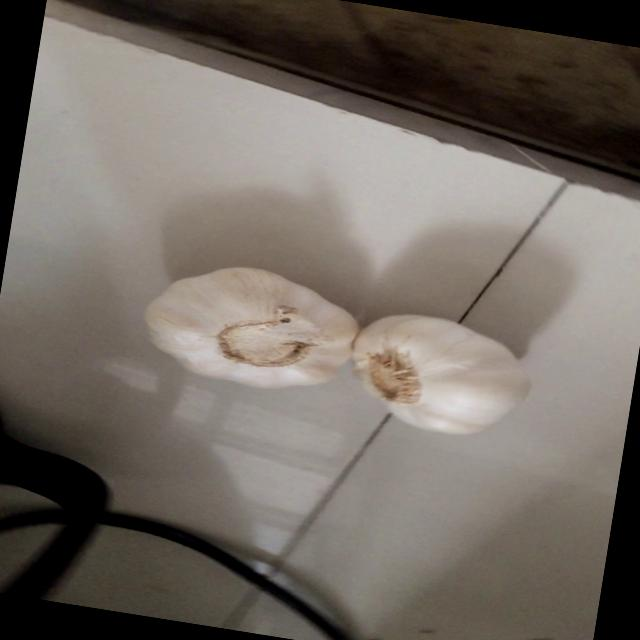bawang: (129, 248, 369, 404), (334, 300, 538, 444)
